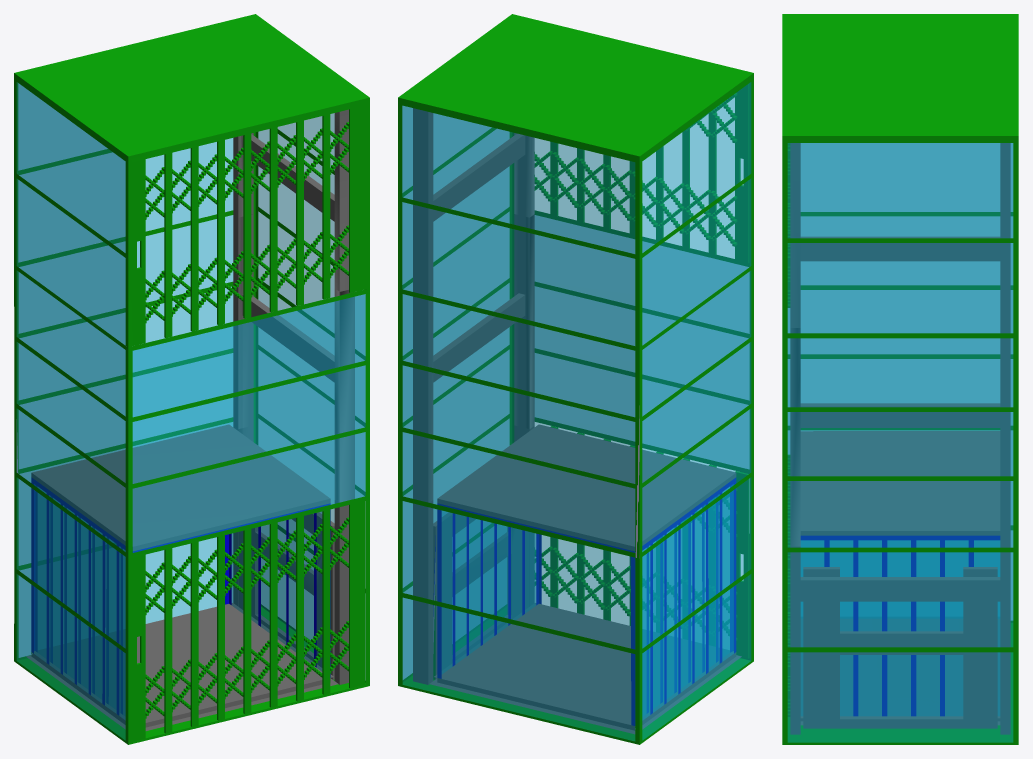
The model's file is Lift 1.fbx.
The picture shows the model from 3 angles, left to right: view 1: azimuth 30°, elevation 25°; view 2: azimuth 150°, elevation 25°; view 3: azimuth 270°, elevation 25°; orthographic projection. The views are drawn at different scales.
Visible parts, largest first — view 1: Bone cord.M, Bone cord.U, Basket, Bone cord.D, Door.U, Door.D, Prop.M, Prop.U, Stand, Prop.D; view 2: Bone cord.M, Bone cord.U, Bone cord.D, Basket, Door.U, Prop.M, Prop.U, Stand, Door.D, Prop.D; view 3: Bone cord.U, Bone cord.M, Bone cord.D, Basket, Stand, Prop.D, Prop.M, Prop.U, Door.D, Door.U.
Boxes of the visible parts, box(x1,y1,x2,y2) form: Bone cord.M: box(14, 205, 369, 558); Bone cord.U: box(14, 14, 369, 347); Basket: box(31, 424, 333, 727); Bone cord.D: box(14, 416, 369, 744); Door.U: box(132, 105, 365, 345); Door.D: box(132, 501, 365, 741); Prop.M: box(233, 214, 354, 502); Prop.U: box(233, 109, 348, 291); Stand: box(26, 512, 338, 730); Prop.D: box(233, 426, 348, 684); Bone cord.M: box(398, 205, 753, 558); Bone cord.U: box(398, 14, 753, 347); Bone cord.D: box(398, 416, 753, 744); Basket: box(434, 424, 736, 730); Door.U: box(534, 84, 749, 263); Prop.M: box(413, 214, 534, 502); Prop.U: box(413, 108, 534, 291); Stand: box(430, 514, 741, 734); Door.D: box(535, 426, 749, 658); Prop.D: box(413, 425, 534, 684); Bone cord.U: box(782, 14, 1018, 333); Bone cord.M: box(782, 212, 1018, 552); Bone cord.D: box(782, 430, 1018, 744); Basket: box(800, 431, 1000, 721); Stand: box(800, 567, 1000, 728); Prop.D: box(790, 546, 1010, 734); Prop.M: box(790, 328, 1010, 546); Prop.U: box(790, 143, 1010, 327); Door.D: box(787, 454, 790, 716); Door.U: box(787, 143, 790, 307).
Size of the model in its own units: 387 by 900 by 317.
